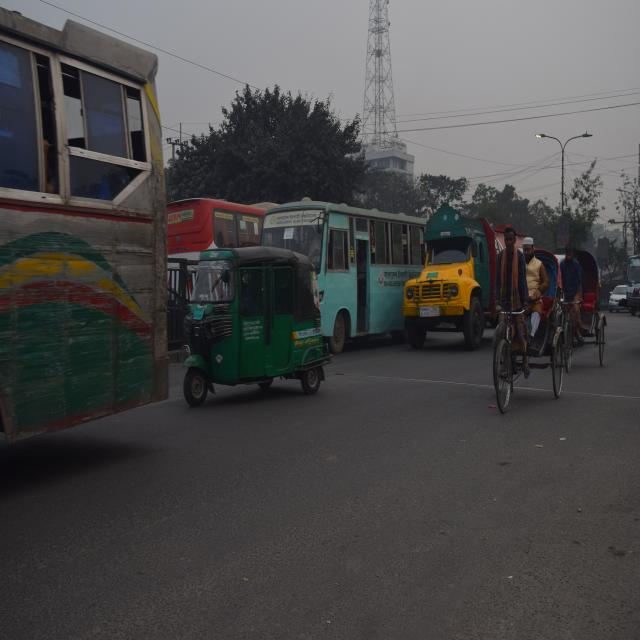bus: (0, 4, 180, 426), (266, 198, 411, 352), (172, 198, 264, 272)
car: (608, 282, 629, 308)
truck: (411, 213, 508, 328)
